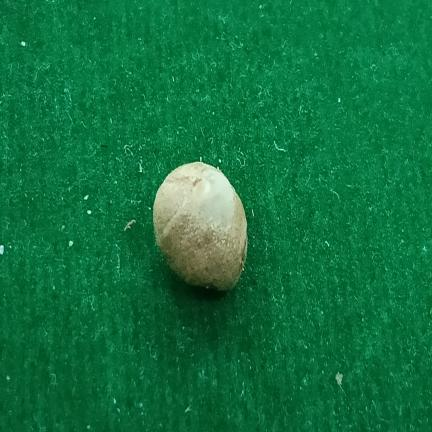cut: (153, 162, 247, 290)
